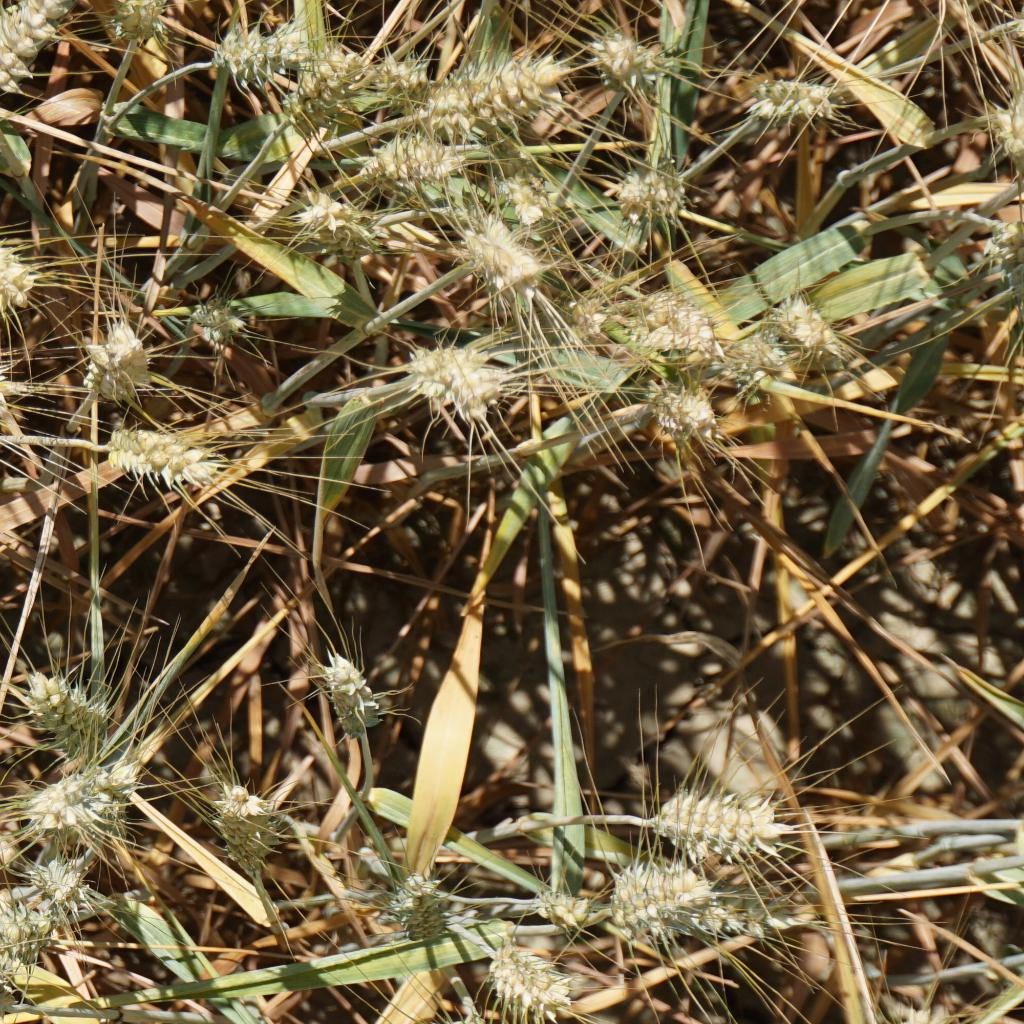0-0: (416, 41, 576, 128), (19, 748, 142, 854), (638, 784, 791, 866), (609, 855, 737, 939), (23, 660, 109, 779), (680, 874, 829, 942), (399, 340, 513, 423), (96, 419, 222, 492), (758, 285, 861, 363), (477, 943, 572, 1022), (311, 642, 388, 738), (0, 0, 75, 98), (202, 777, 279, 872), (355, 130, 455, 200), (585, 29, 686, 98), (272, 39, 352, 123), (743, 62, 842, 129), (380, 866, 458, 945), (16, 852, 102, 920), (628, 287, 712, 355), (79, 316, 150, 396), (460, 215, 536, 287), (606, 151, 679, 223), (293, 183, 365, 254), (555, 275, 622, 351), (644, 378, 716, 444), (182, 289, 255, 353), (482, 169, 558, 230), (193, 32, 295, 76), (721, 333, 788, 399), (336, 47, 421, 97), (984, 216, 1024, 317), (0, 226, 43, 317), (982, 81, 1024, 169), (113, 0, 169, 54), (860, 995, 954, 1024), (535, 883, 592, 929), (0, 905, 53, 950), (0, 348, 31, 413)
